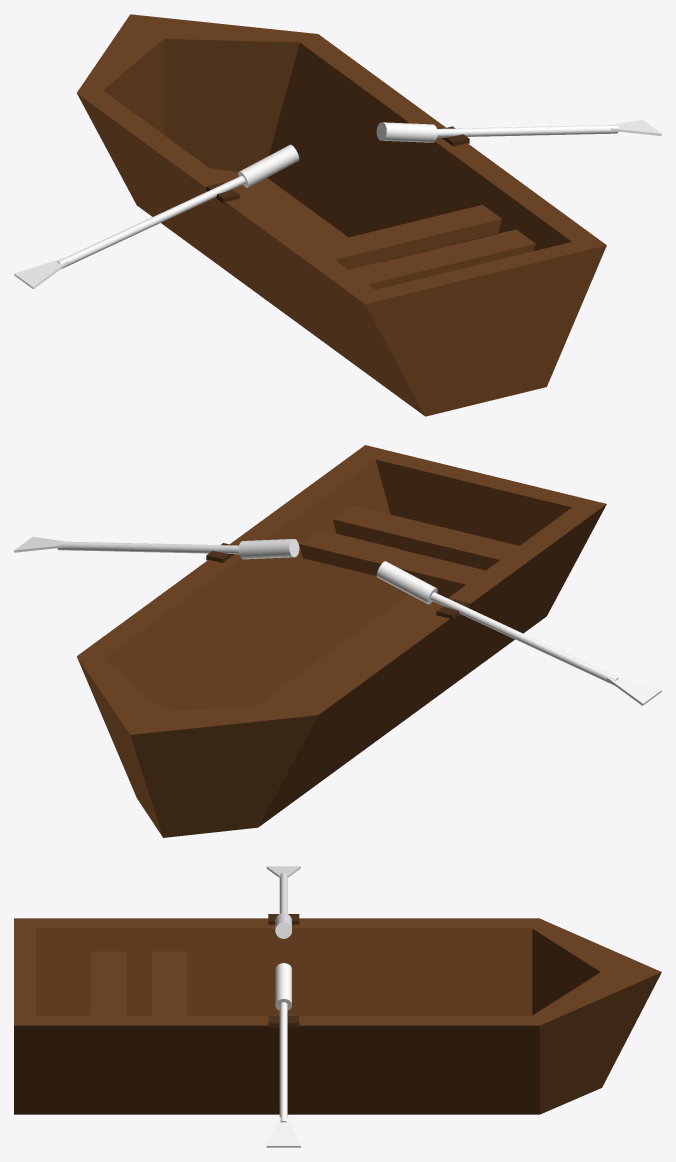
3 renders of one model, top to bottom at view 1: azimuth 30°, elevation 25°; view 2: azimuth 150°, elevation 25°; view 3: azimuth 270°, elevation 25°, orthographic. The views are drawn at different scales.
Parts seen in each view (by area): view 1: outer, plank.002, plank.001, grip.001, grip; view 2: outer, plank.001, plank.002, grip.001, grip; view 3: outer, grip, plank.001, plank.002, grip.001.
Part boxes in pixels (bbox=[...]): outer: bbox=[77, 14, 606, 416]; plank.002: bbox=[315, 205, 501, 269]; plank.001: bbox=[349, 229, 535, 289]; grip.001: bbox=[14, 144, 299, 289]; grip: bbox=[376, 120, 661, 142]; outer: bbox=[77, 445, 606, 837]; plank.001: bbox=[333, 505, 518, 569]; plank.002: bbox=[299, 529, 485, 594]; grip.001: bbox=[376, 561, 661, 705]; grip: bbox=[14, 536, 299, 559]; outer: bbox=[14, 918, 661, 1114]; grip: bbox=[266, 963, 300, 1147]; plank.001: bbox=[91, 951, 126, 1015]; plank.002: bbox=[152, 951, 187, 1015]; grip.001: bbox=[266, 866, 300, 938].
Size of the model in its own units: 2.99 by 0.7246 by 2.93.
